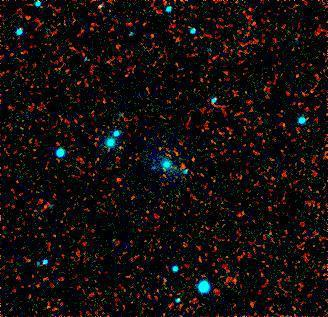star: (179, 148, 209, 178)
